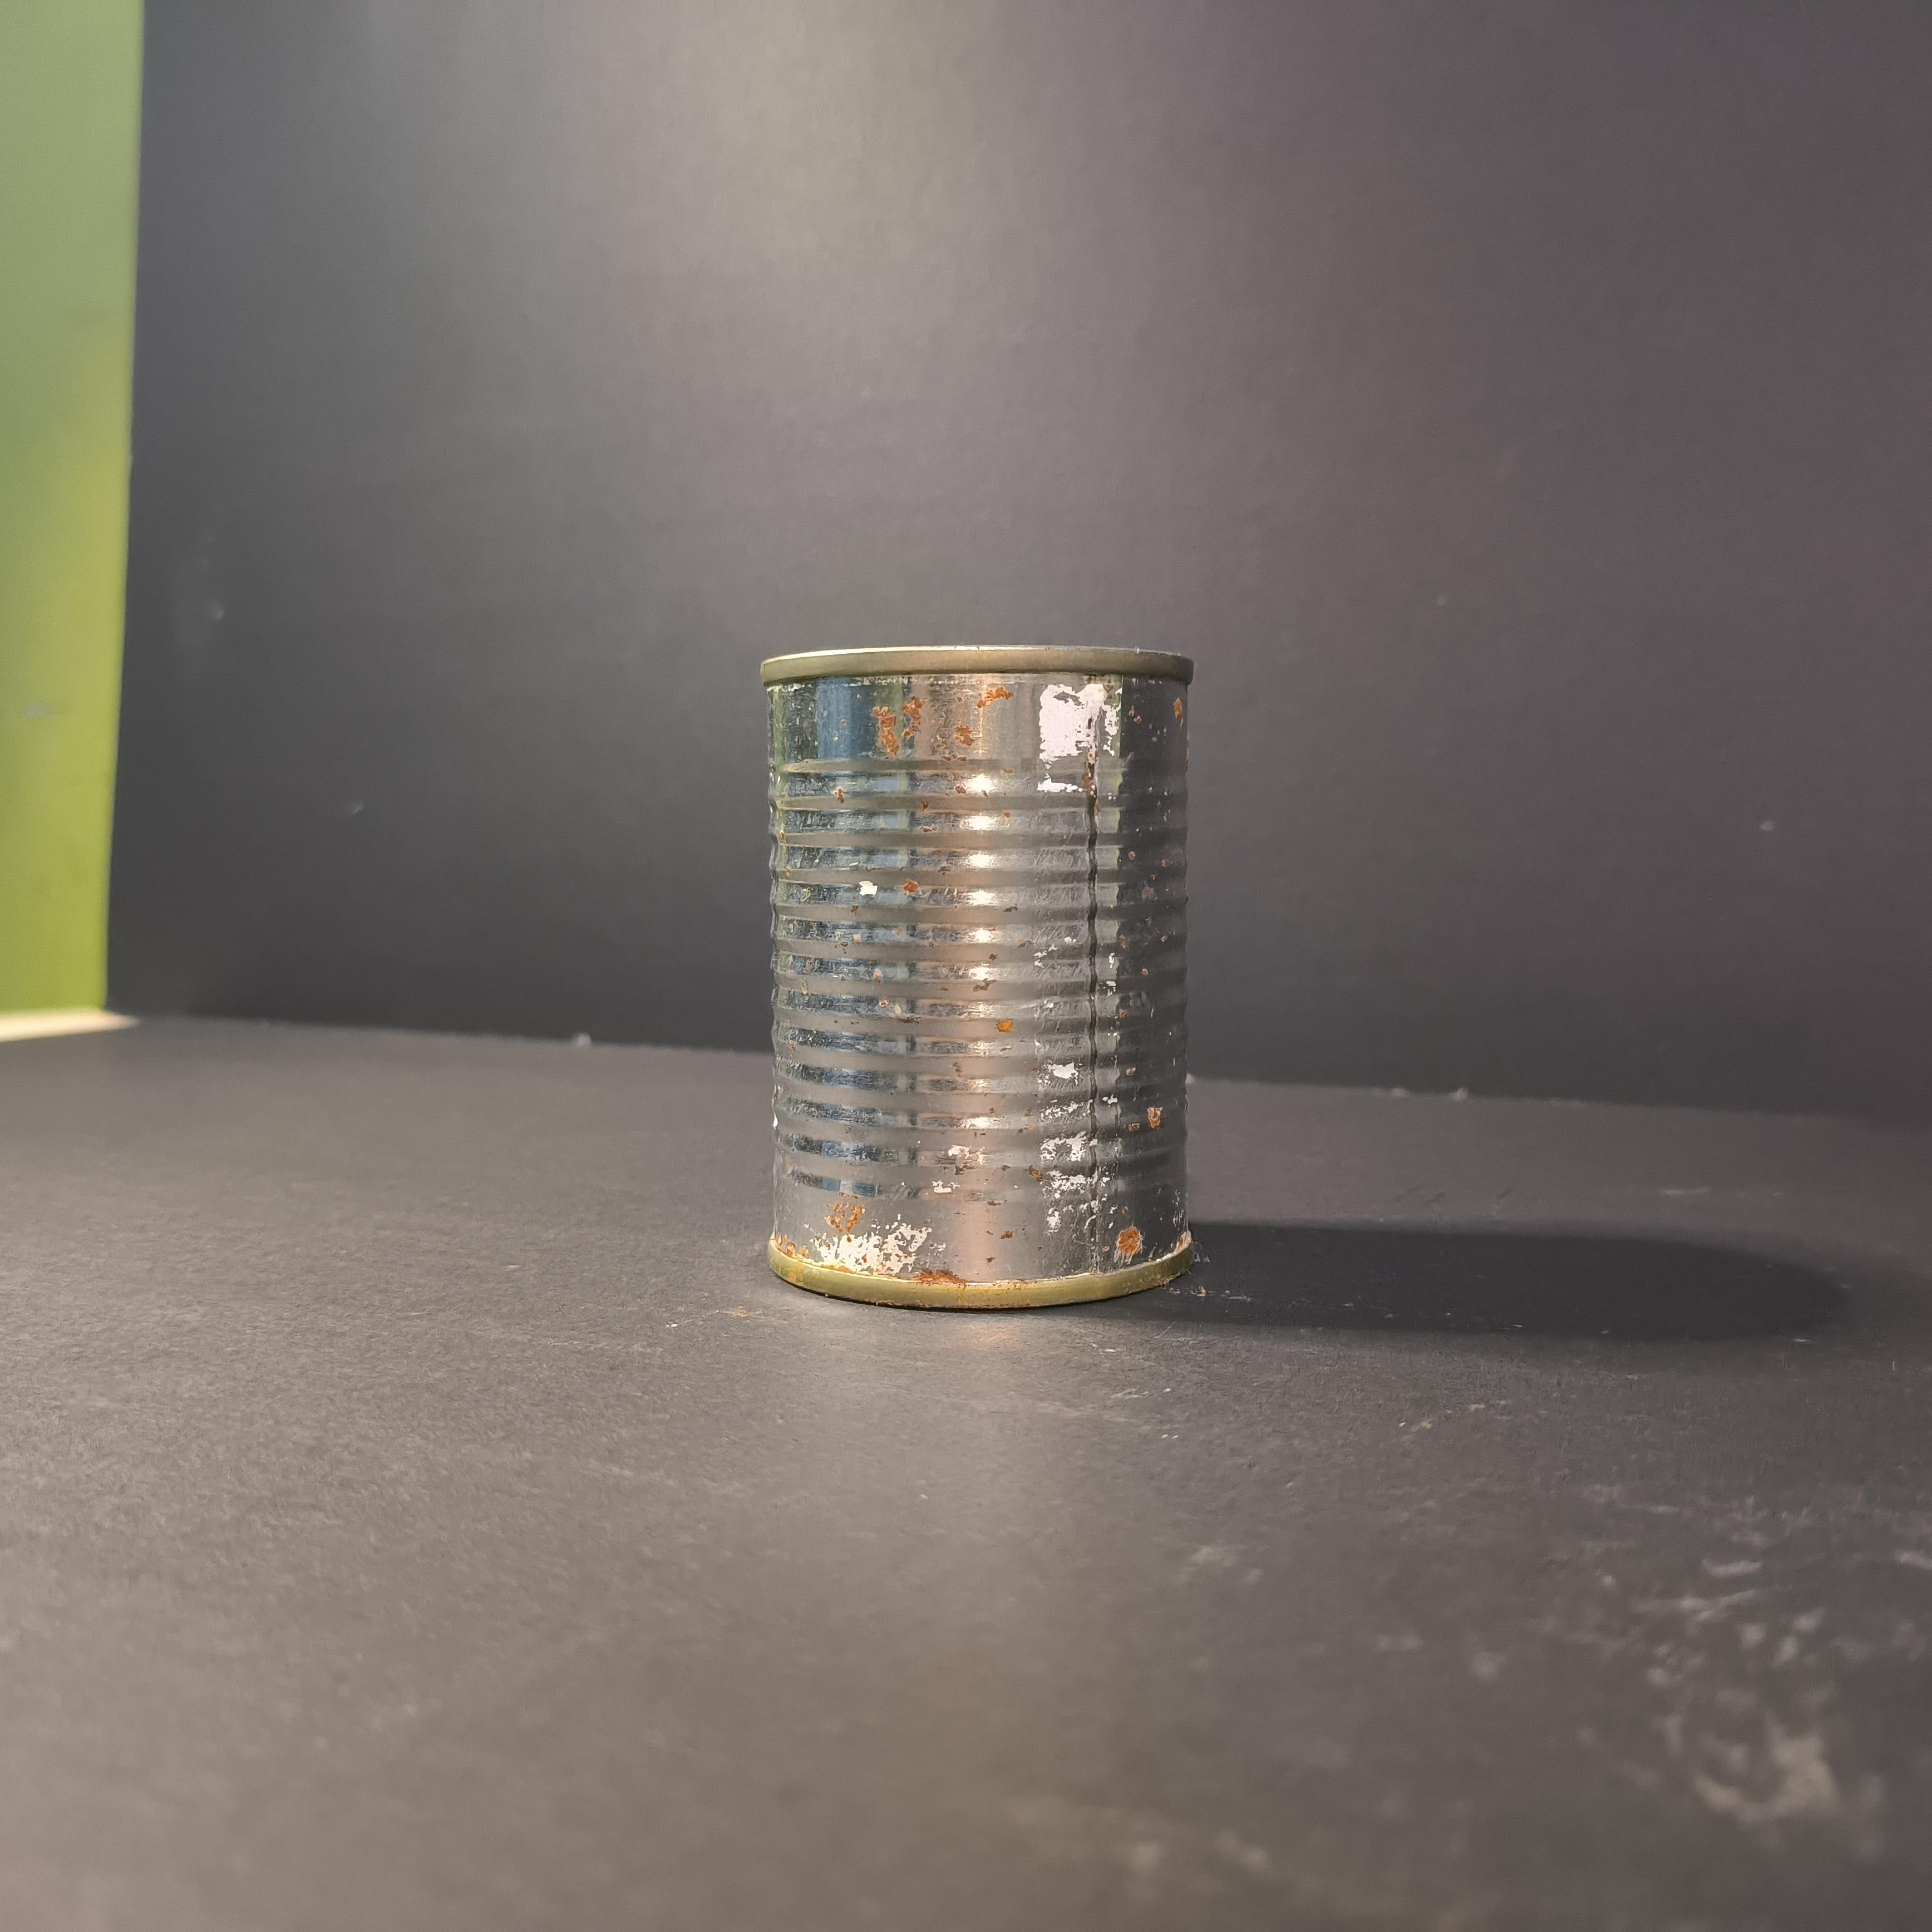Rusted: (743, 626, 1230, 1325)
